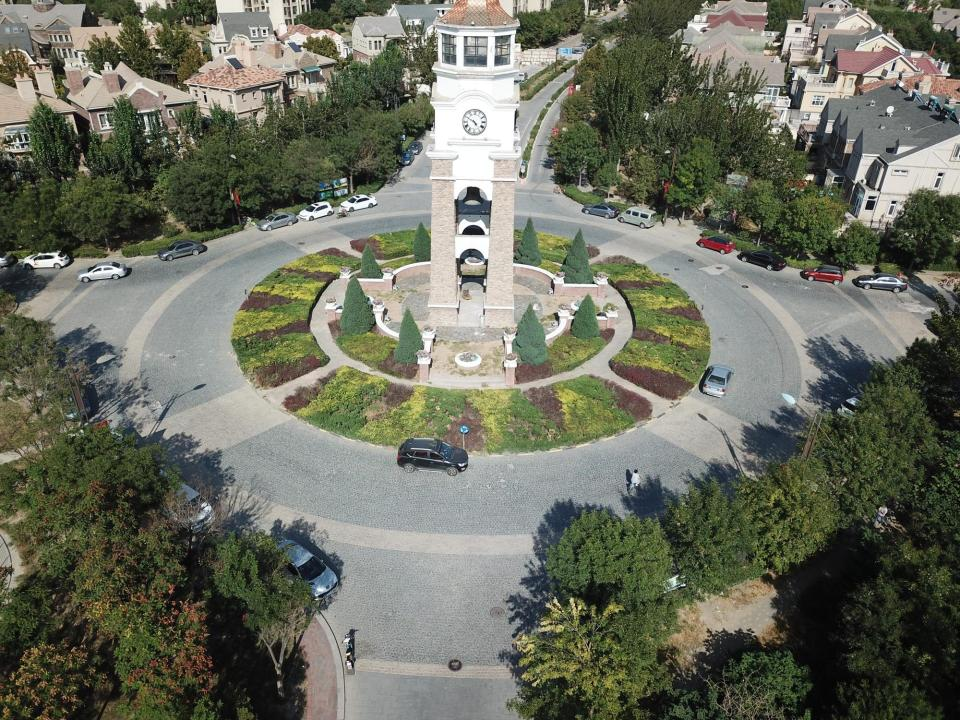car: (268, 537, 340, 599), (48, 350, 91, 420), (397, 437, 468, 476), (853, 271, 908, 293), (21, 248, 70, 269), (700, 364, 732, 396), (800, 263, 845, 285), (76, 262, 128, 280), (159, 240, 202, 261), (836, 396, 873, 420), (739, 251, 787, 269), (258, 212, 297, 232), (296, 200, 333, 221), (340, 194, 378, 212), (700, 236, 734, 254), (582, 202, 618, 218), (512, 68, 529, 88), (407, 140, 422, 155), (400, 150, 414, 164)
van: (146, 468, 215, 532), (616, 206, 658, 228)
